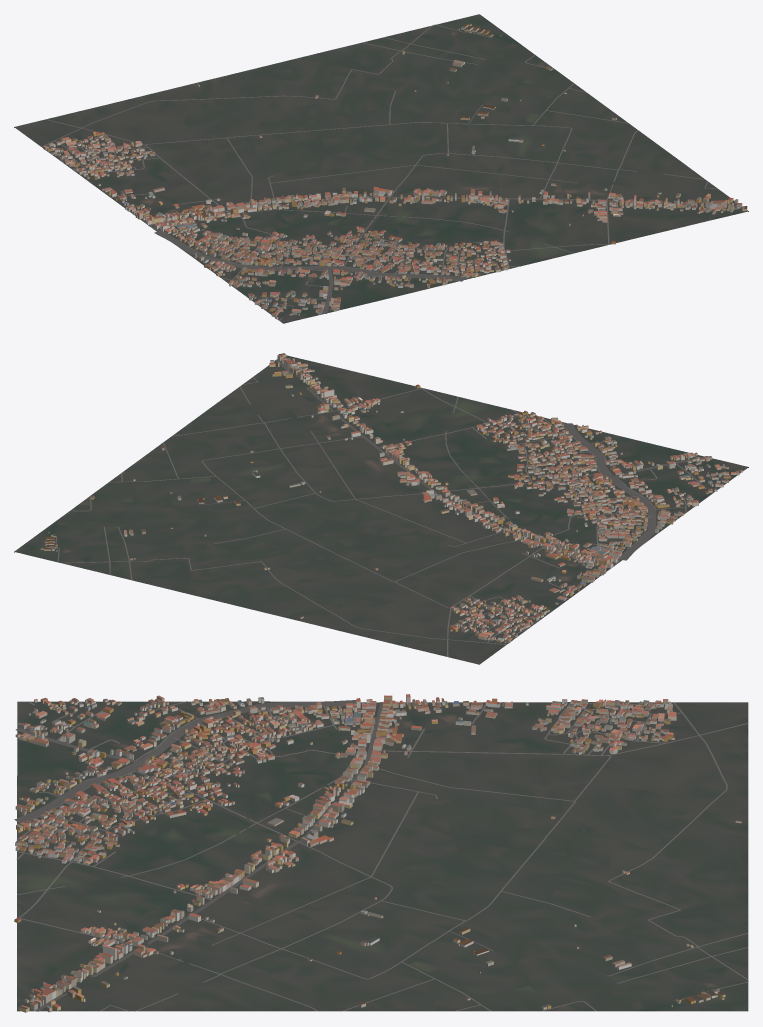
3 views of the same model, one above another, from view 1: azimuth 30°, elevation 25°; view 2: azimuth 150°, elevation 25°; view 3: azimuth 270°, elevation 25° (orthographic). The views are drawn at different scales.
Visible parts, largest first — view 1: ground, buildings, roads; view 2: ground, buildings, roads; view 3: ground, buildings, roads.
Boxes of the visible parts, x1,y1,x2,y2 form: ground: (14,14,748,323); buildings: (43,23,747,319); roads: (41,24,736,320); ground: (14,355,748,664); buildings: (40,353,742,643); roads: (55,359,744,656); ground: (17,701,748,1011); buildings: (14,694,741,1012); roads: (14,700,748,1011).
Size of the model in its own units: 1415 by 27.27 by 1409.
